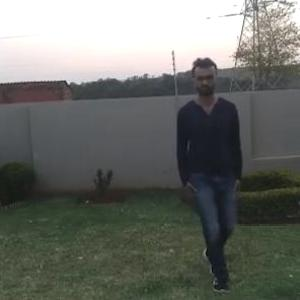follow: (172, 51, 241, 282)
